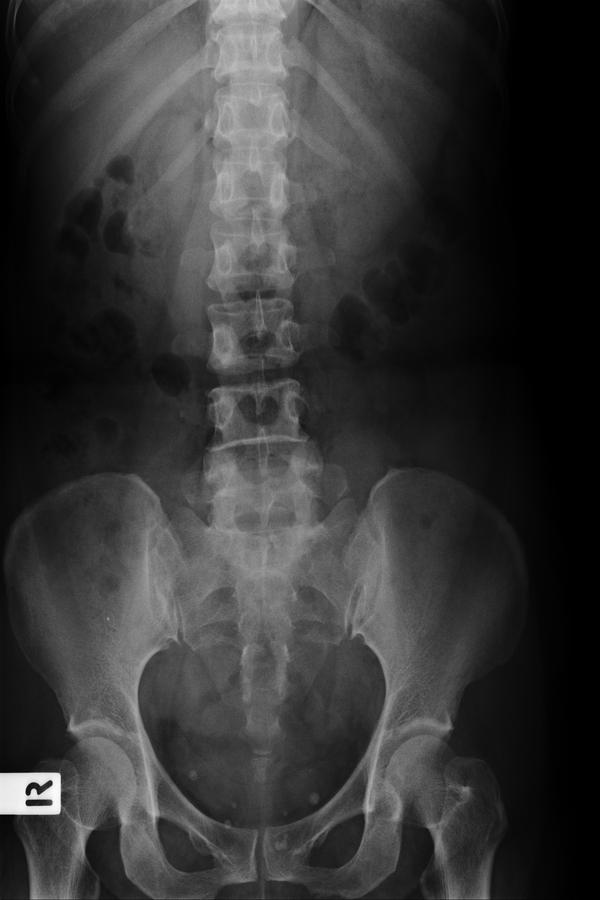lumbar scoliosis: (196, 8, 328, 581)
